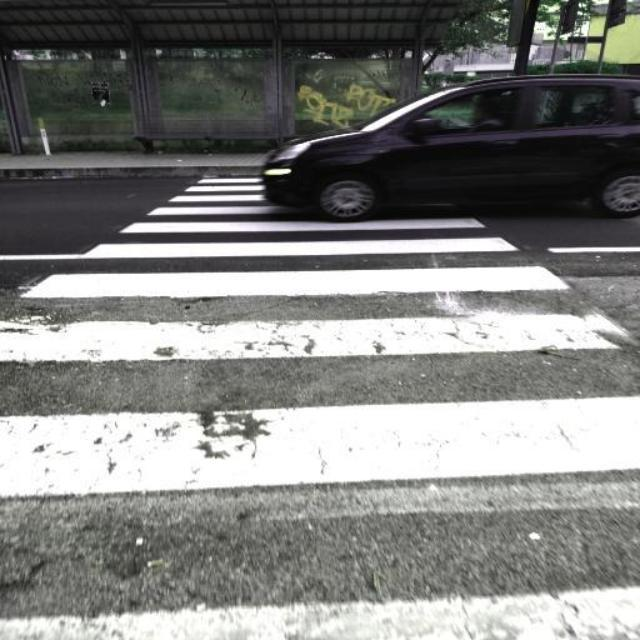sidewalk: (0, 162, 640, 640)
